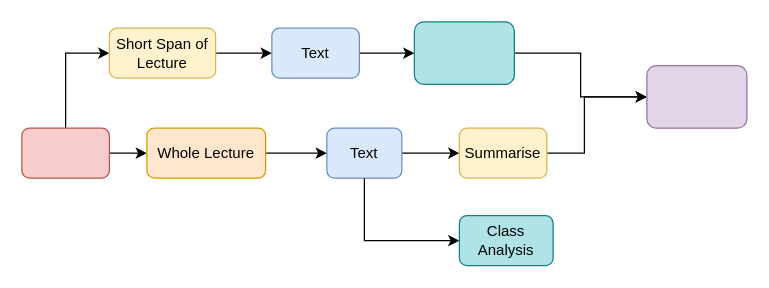
The diagram is 769 pixels wide and 288 high, and some of its shapes have lost their labels. The box of each missing label's shape, as (x1, y1, x2, y2) in pixels:
Chatbot: (646, 64, 747, 128)
Real Time Quiz: (413, 21, 514, 84)
Speech: (21, 127, 109, 178)
